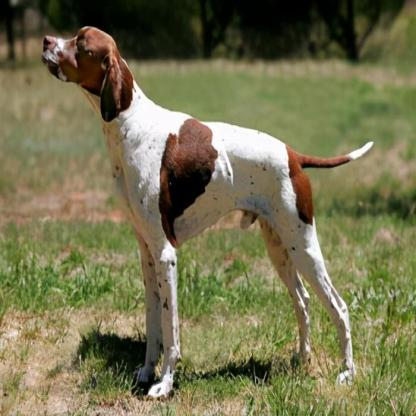Labarador Retriever: (42, 21, 370, 400)
